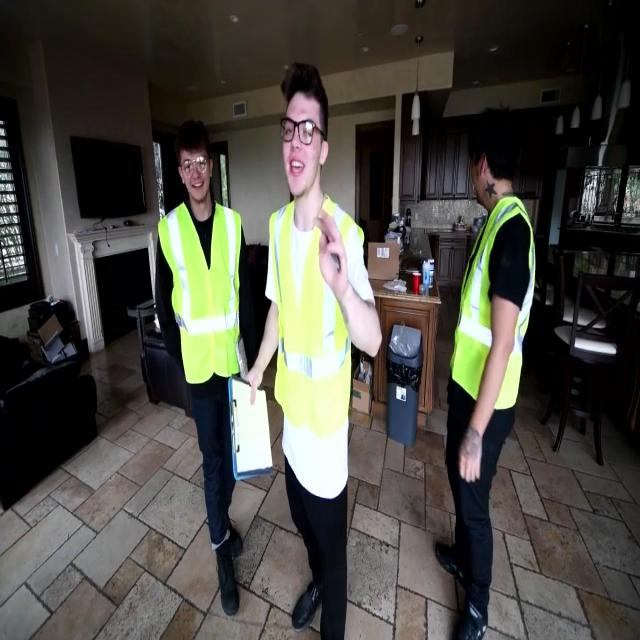Reflective-Jacket: (266, 194, 366, 490), (445, 190, 544, 428), (155, 198, 247, 390)
